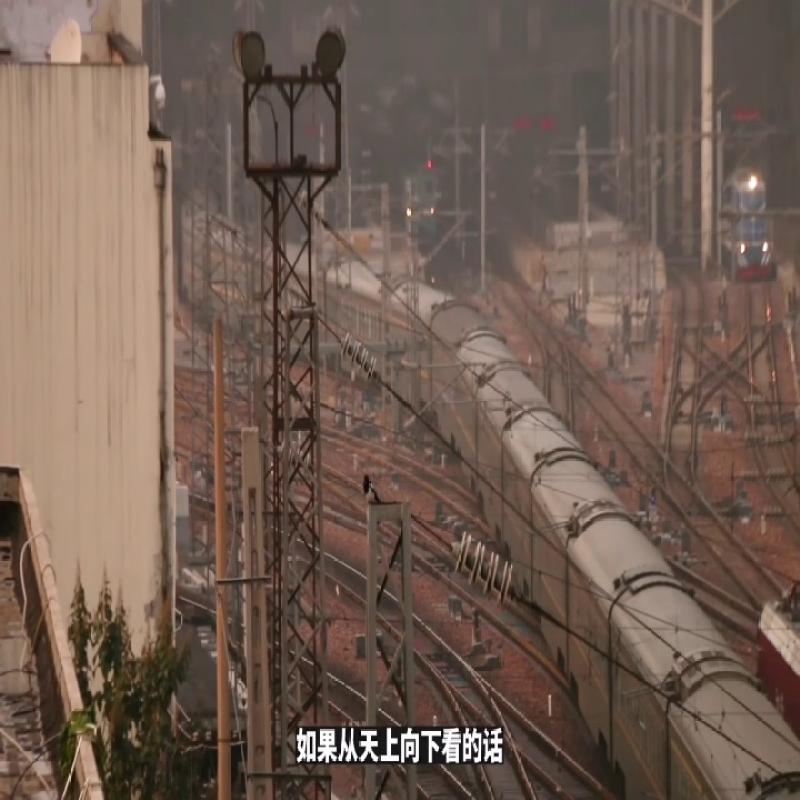train: (518, 423, 667, 678)
